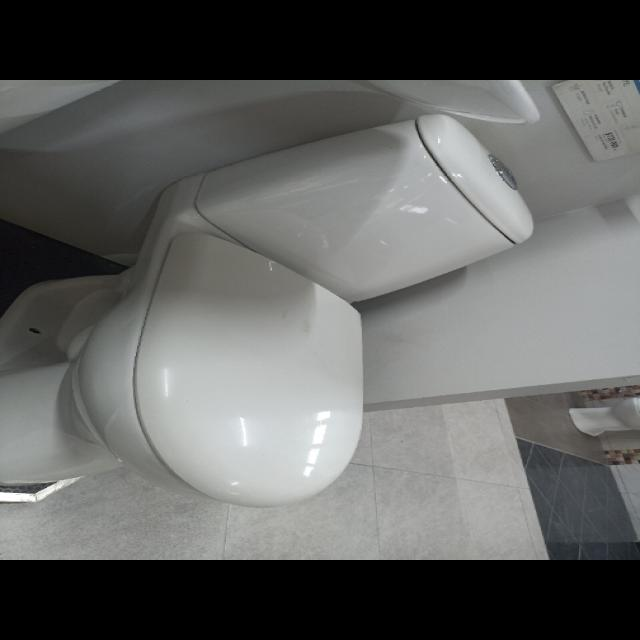toilet: (1, 113, 536, 508)
